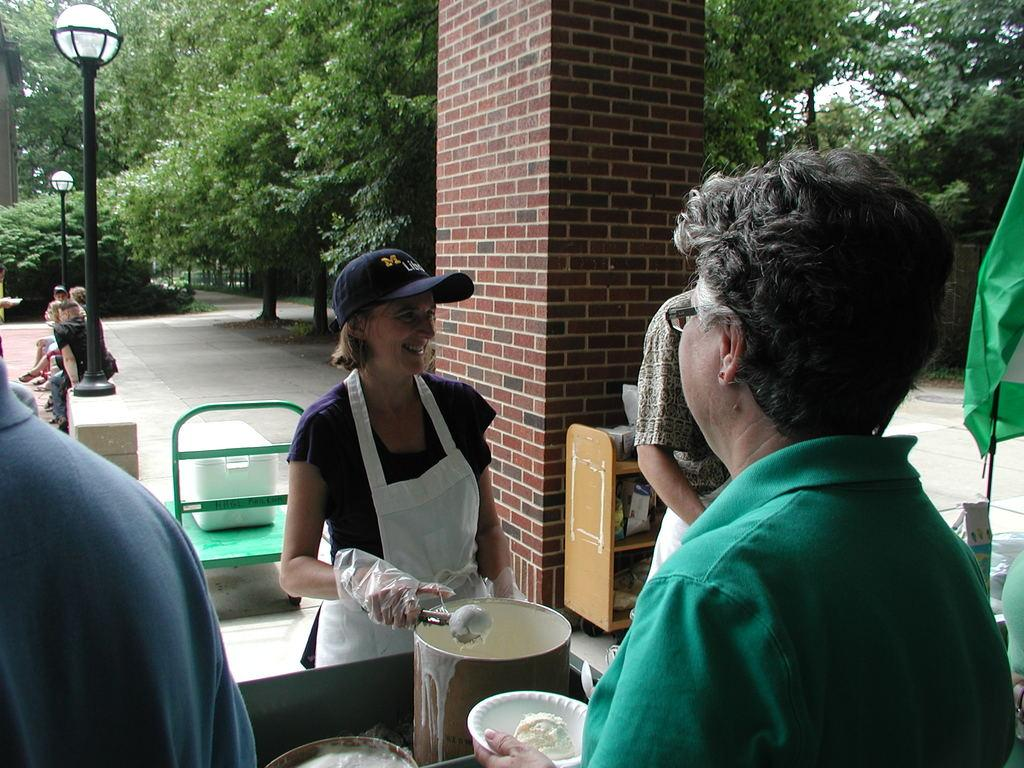Hat: (331, 249, 475, 328)
